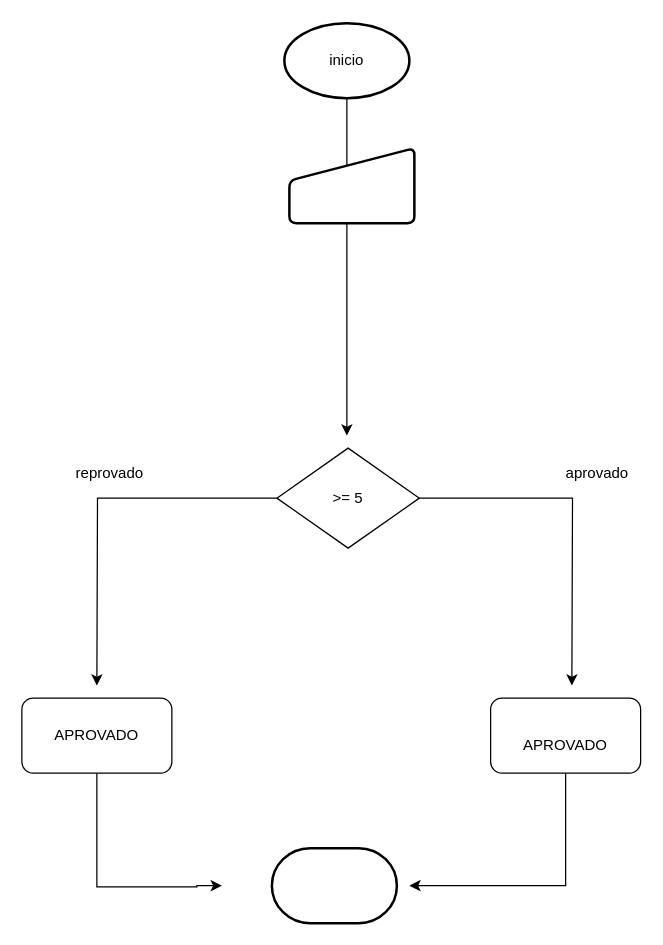
This 663x945 diagram has some shape labels left out. The centre of each missing label's shape, as x and y in pixels:
"fim" belongs at point (334, 885).
"MEDIA" belongs at point (351, 185).
